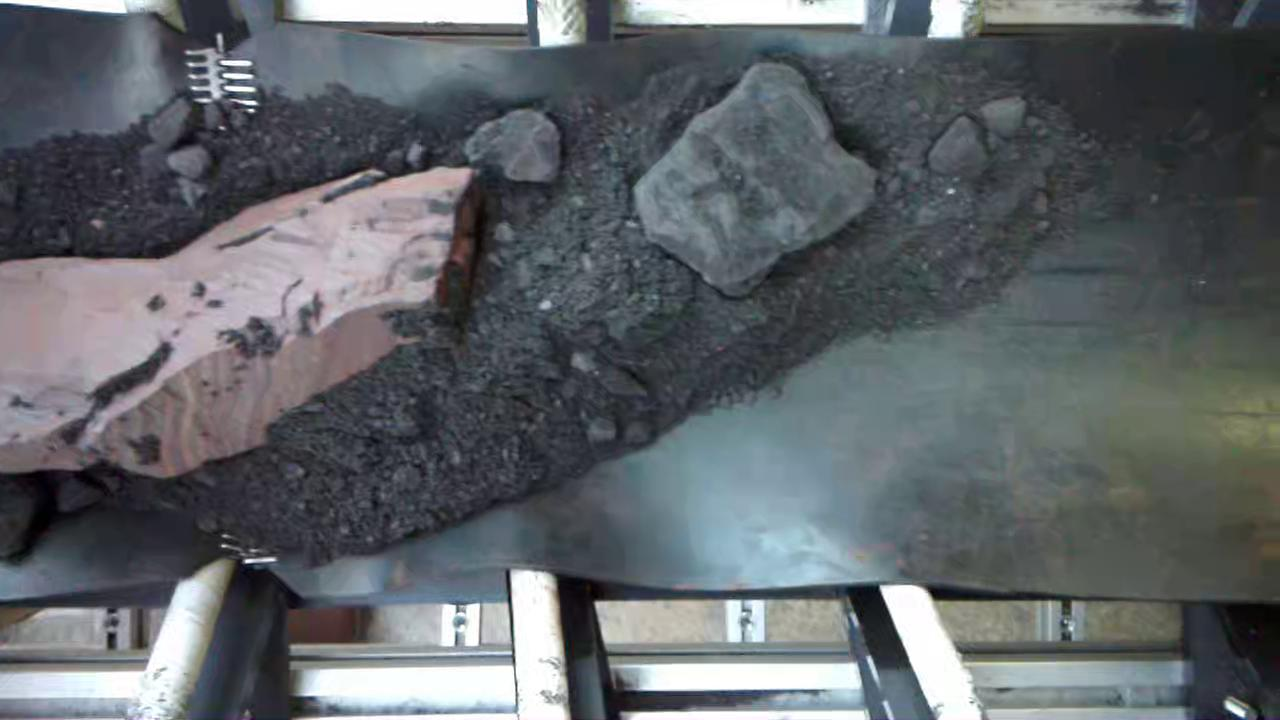conveyor: (9, 47, 1267, 583)
